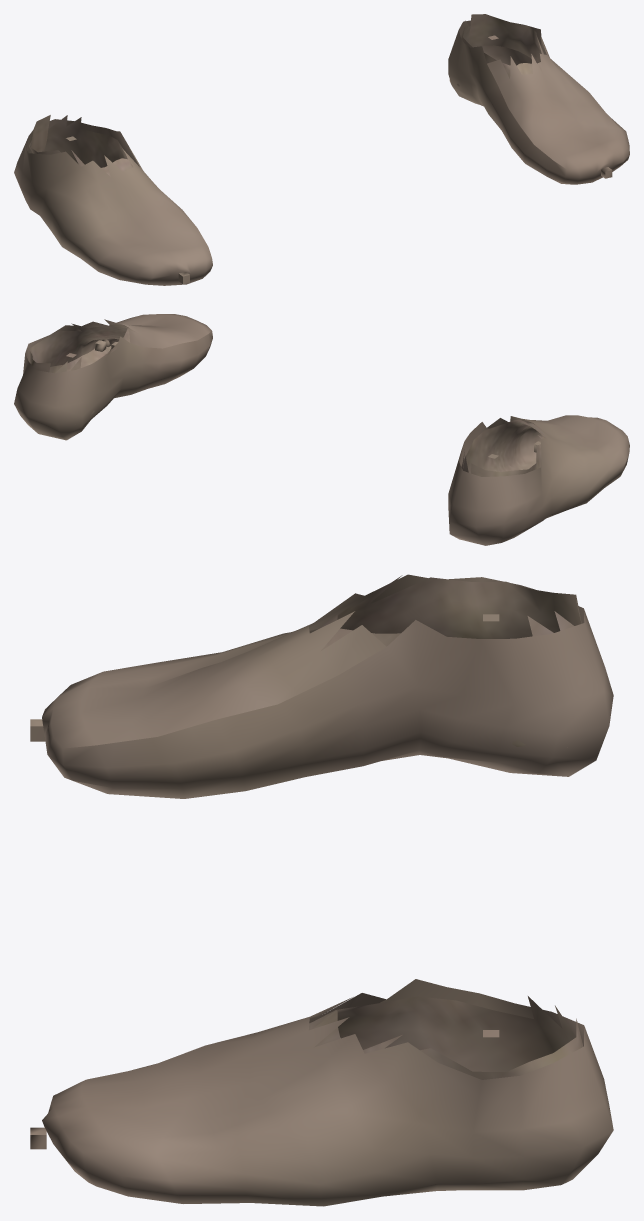
The model's file is cloth-shoes.glb.
3 views of the same model, one above another, from view 1: azimuth 30°, elevation 25°; view 2: azimuth 150°, elevation 25°; view 3: azimuth 270°, elevation 25° (orthographic). The views are drawn at different scales.
Parts seen in each view (by area): view 1: Cloth_shoes; view 2: Cloth_shoes; view 3: Cloth_shoes.
Boxes of the visible parts, <box> form: Cloth_shoes: <box>14,14,629,285</box>; Cloth_shoes: <box>14,314,629,545</box>; Cloth_shoes: <box>30,574,613,1206</box>.
Bounding box in the file's own units: 0.5583 × 0.0908 × 0.2669.
1 material, 1 textured.
